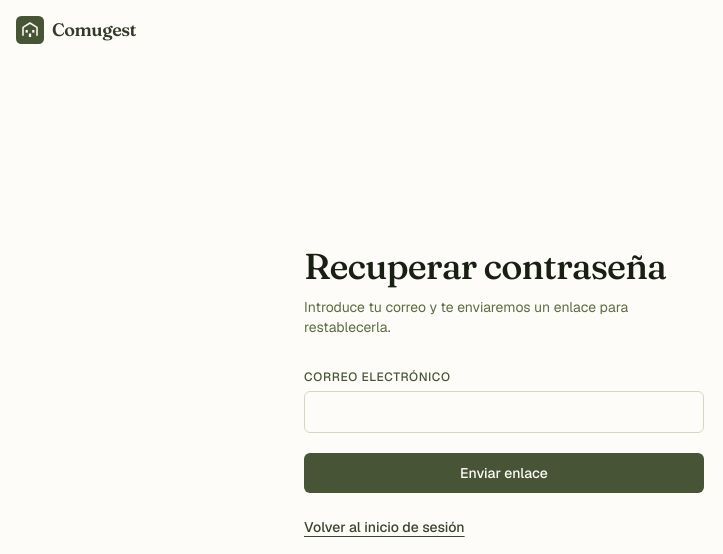
Test: ForgotPasswordPage › shows the email-sent success message after a successful submission
Type "test@example.com" into the field labelled "Correo electrónico".
click(504, 412); type("test@example.com")  # box [304,390,704,432]
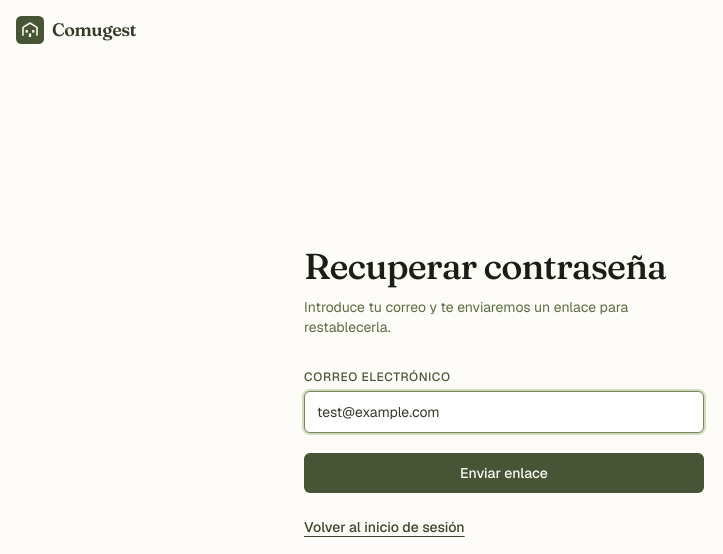
Click the button "Enviar enlace".
click(504, 472)  # box [304,452,704,492]
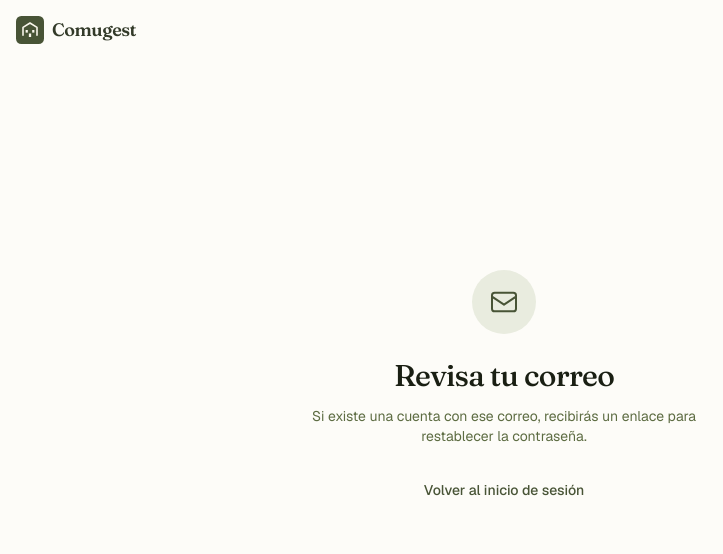
Expected: the heading "Revisa tu correo" is shown, [394,357,614,394]
Expected: the button "Enviar enlace" is gone
